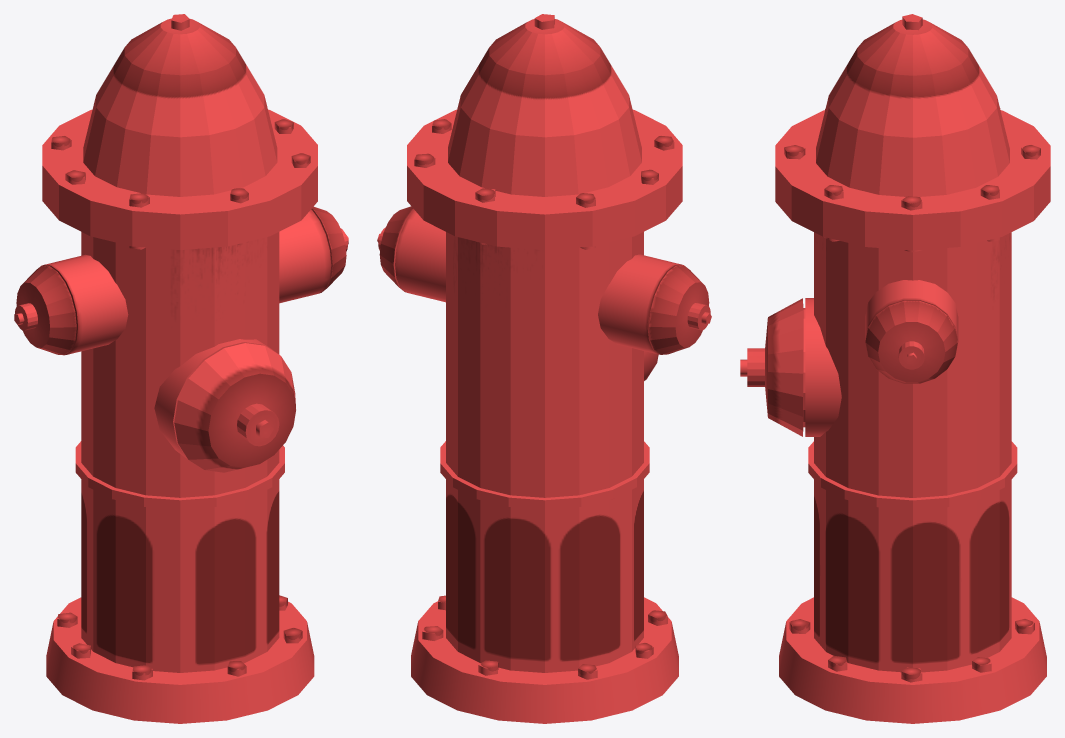
File: Fire_Hydrant.fbx
The picture shows the model from 3 angles, left to right: view 1: azimuth 30°, elevation 25°; view 2: azimuth 150°, elevation 25°; view 3: azimuth 270°, elevation 25°; orthographic projection.
Parts seen in each view (by area): view 1: FireHydrant; view 2: FireHydrant; view 3: FireHydrant.
Part boxes in pixels (left/top/right/bottom): FireHydrant: left=14, top=14, right=348, bottom=723; FireHydrant: left=377, top=14, right=711, bottom=723; FireHydrant: left=740, top=14, right=1050, bottom=723.
Bounding box in the file's own units: 0.4253 × 0.3475 × 0.8012.
